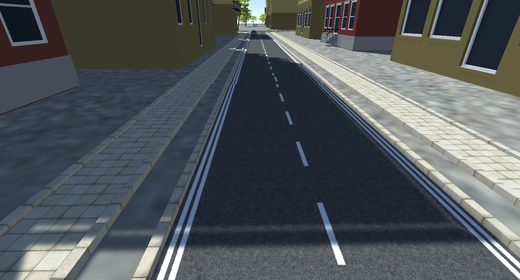centerstrip: (261, 52, 345, 279)
sidestripe: (303, 69, 518, 274), (157, 46, 247, 279)
